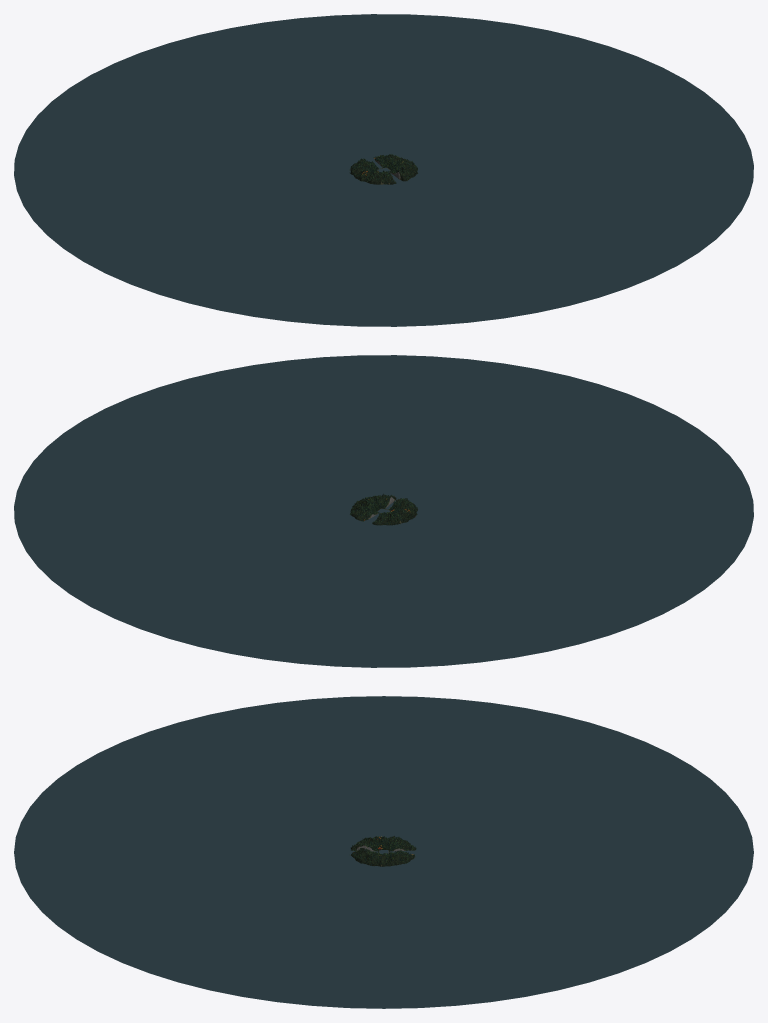
File: backdrop_near_rect_isle_summer.glb
3 renders of one model, top to bottom at view 1: azimuth 30°, elevation 25°; view 2: azimuth 150°, elevation 25°; view 3: azimuth 270°, elevation 25°, orthographic.
Parts seen in each view (by area): view 1: water_S, water_N, water_W, water_E; view 2: water_N, water_S, water_W, water_E; view 3: water_E, water_N, water_W, water_S.
Part boxes in pixels (x1,y1,x2,y2): water_S: [288, 170, 741, 326]; water_N: [26, 14, 479, 170]; water_W: [14, 130, 383, 321]; water_E: [384, 19, 753, 210]; water_N: [26, 511, 479, 667]; water_S: [288, 355, 741, 511]; water_W: [384, 471, 753, 662]; water_E: [14, 360, 383, 551]; water_E: [123, 852, 644, 1008]; water_N: [384, 742, 753, 962]; water_W: [123, 696, 644, 852]; water_S: [14, 742, 383, 962].
Size of the model in its own units: 6000 by 175 by 6000.
Materials: 5 (3 with a texture image).
